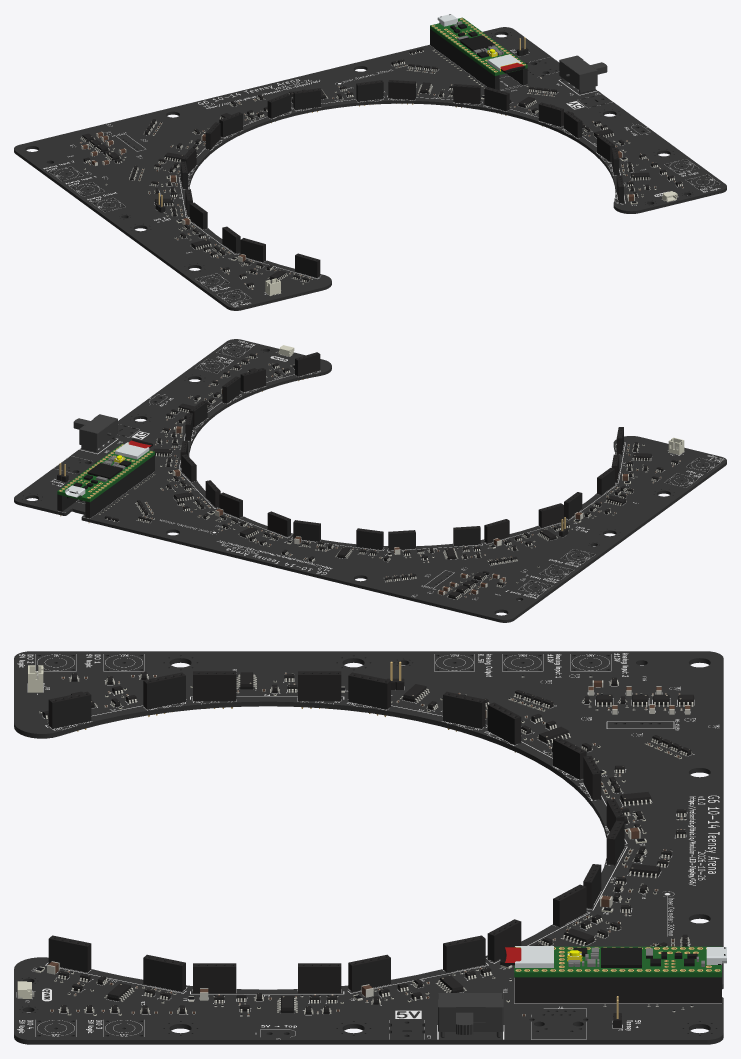
The model's file is arena_10-14-v1.0.glb.
The picture shows the model from 3 angles, top to bottom: view 1: azimuth 30°, elevation 25°; view 2: azimuth 150°, elevation 25°; view 3: azimuth 270°, elevation 25°; orthographic projection. The views are drawn at different scales.
Visible parts, largest first — view 1: =>[0:1:1:38], =>[0:1:1:9] (×8), =>[0:1:1:36], =>[0:1:1:23], =>[0:1:1:33], =>[0:1:1:29]; view 2: =>[0:1:1:38], =>[0:1:1:9] (×10), =>[0:1:1:36], =>[0:1:1:23], =>[0:1:1:33], =>[0:1:1:29]; view 3: =>[0:1:1:38], =>[0:1:1:9] (×18), =>[0:1:1:36], =>[0:1:1:23], =>[0:1:1:29], =>[0:1:1:33].
Part boxes in pixels (x1,y1,x2,y2): =>[0:1:1:38]: (14, 27, 726, 310); =>[0:1:1:9] (×8): (240, 80, 563, 277); =>[0:1:1:36]: (43, 45, 720, 307); =>[0:1:1:23]: (430, 14, 527, 75); =>[0:1:1:33]: (559, 55, 607, 93); =>[0:1:1:29]: (430, 29, 499, 90); =>[0:1:1:38]: (14, 339, 726, 622); =>[0:1:1:9] (×10): (219, 352, 563, 550); =>[0:1:1:36]: (51, 340, 724, 599); =>[0:1:1:23]: (57, 439, 154, 502); =>[0:1:1:33]: (73, 414, 117, 452); =>[0:1:1:29]: (85, 455, 154, 522); =>[0:1:1:38]: (14, 651, 723, 1044); =>[0:1:1:9] (×18): (48, 671, 624, 993); =>[0:1:1:36]: (16, 653, 721, 1039); =>[0:1:1:23]: (500, 946, 726, 977); =>[0:1:1:29]: (514, 977, 721, 1003); =>[0:1:1:33]: (438, 993, 503, 1037).
Bounding box in the file's own units: 0.2785 × 0.0168 × 0.2093.
